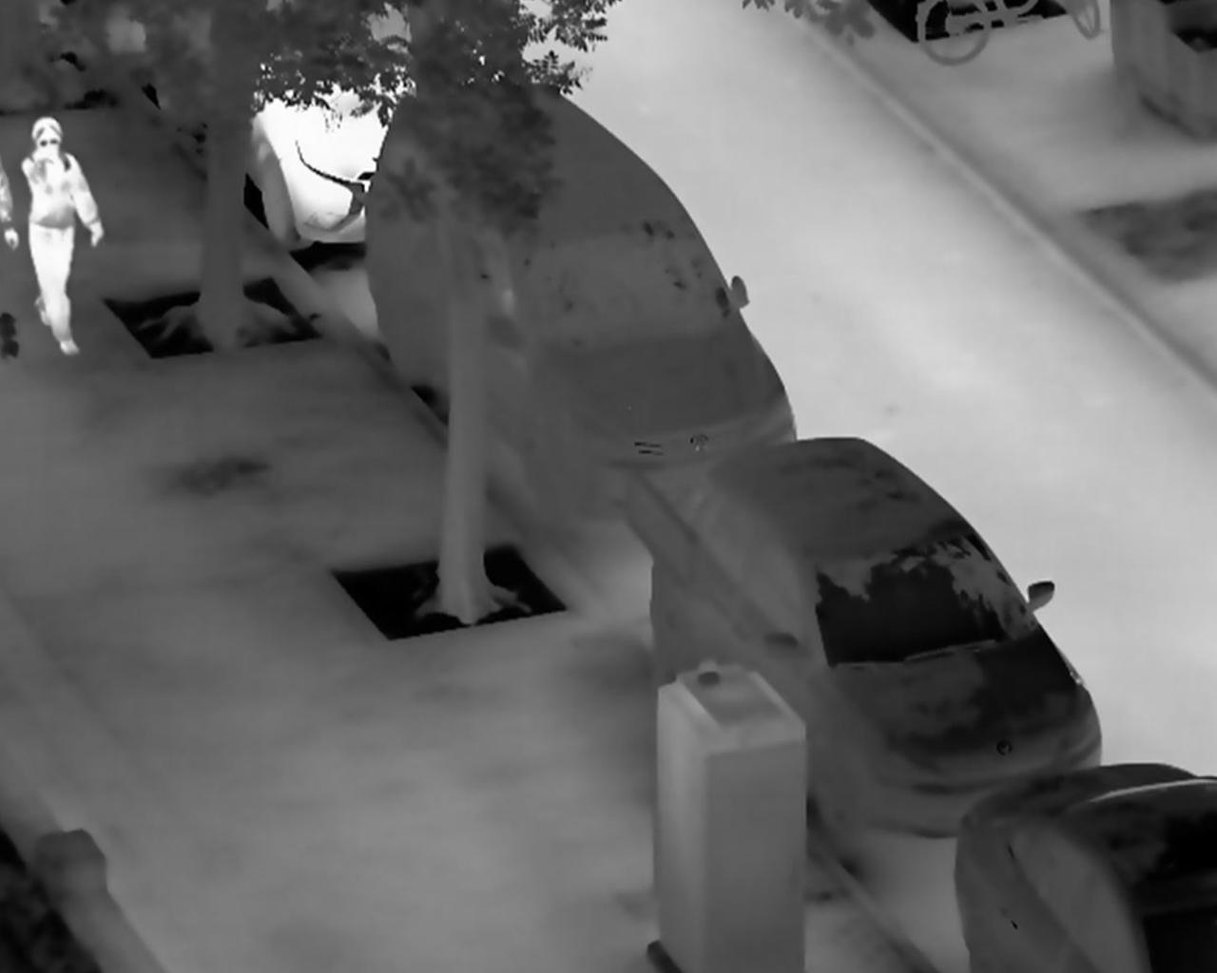person: (17, 114, 106, 358)
